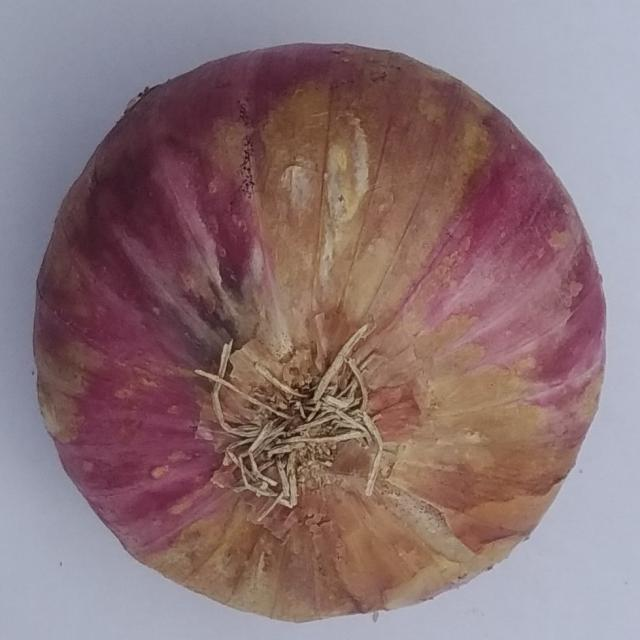onion: (32, 38, 617, 621)
